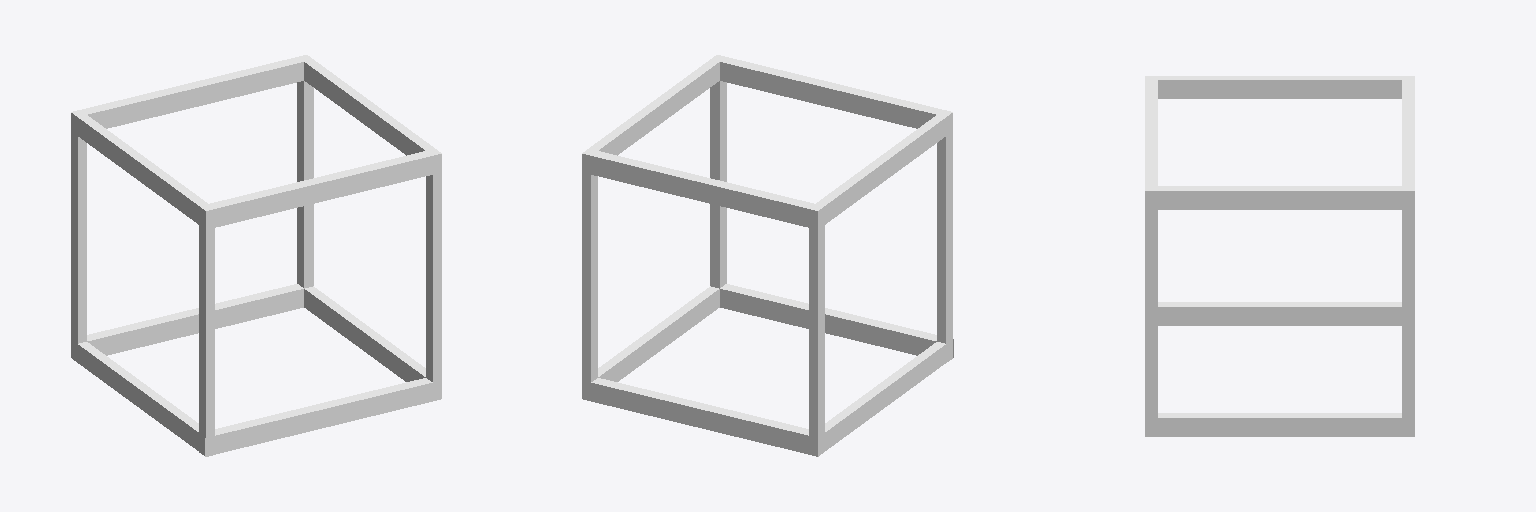
The model's file is box_frame.obj.
3 views of the same model, side by side, from view 1: azimuth 30°, elevation 25°; view 2: azimuth 150°, elevation 25°; view 3: azimuth 270°, elevation 25° (orthographic).
Visible parts, largest first — view 1: box_frame-GRP-1527-Default_Material, box_frame-COM-Group_1-3251-Default_Material; view 2: box_frame-GRP-1527-Default_Material; view 3: box_frame-GRP-1527-Default_Material.
Boxes of the visible parts, x1=… form: box_frame-GRP-1527-Default_Material: x1=71, y1=55, x2=441, y2=455; box_frame-COM-Group_1-3251-Default_Material: x1=205, y1=395, x2=431, y2=456; box_frame-GRP-1527-Default_Material: x1=582, y1=55, x2=952, y2=456; box_frame-GRP-1527-Default_Material: x1=1145, y1=76, x2=1414, y2=436.
Bounding box in the file's own units: 1.01 × 1 × 1.